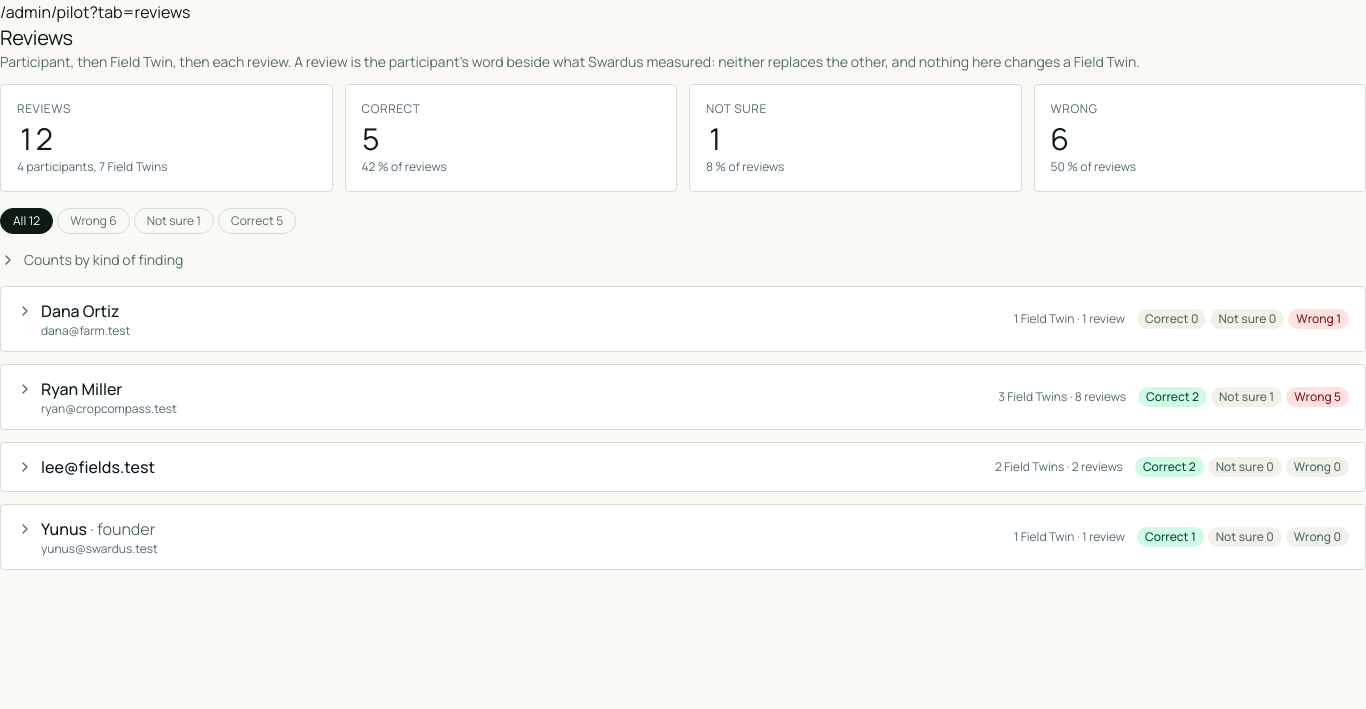
Test: from a review to the Field Twin › a place that is paused or has ended: their reviews stay readable, their Field Twins are not offered for opening, whatever they had agreed to
Click the button "Ryan Miller" at (82, 389), box left=1, top=365, right=1365, bottom=429
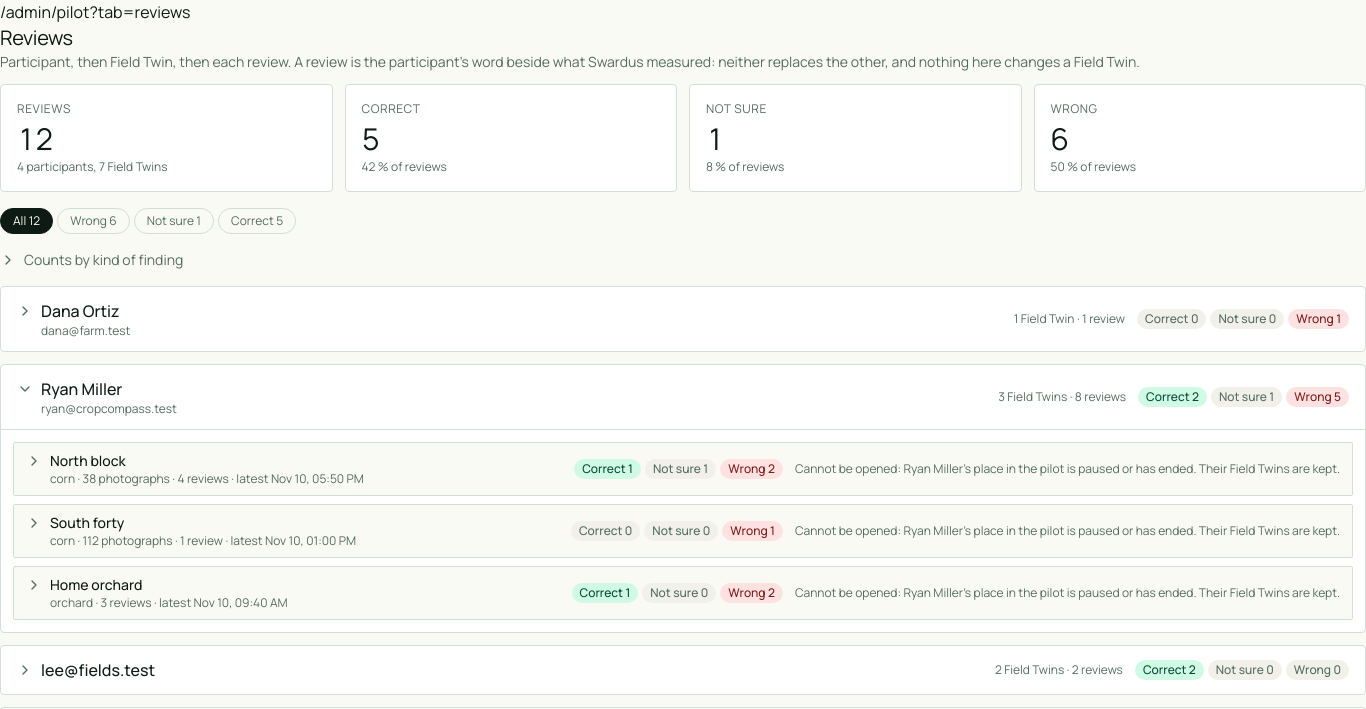
Now the list item "North block" shows "Cannot be opened: Ryan Miller's place in the pilot is paused or has ended. Their Field Twins are kept.", box left=795, top=460, right=1340, bottom=477
